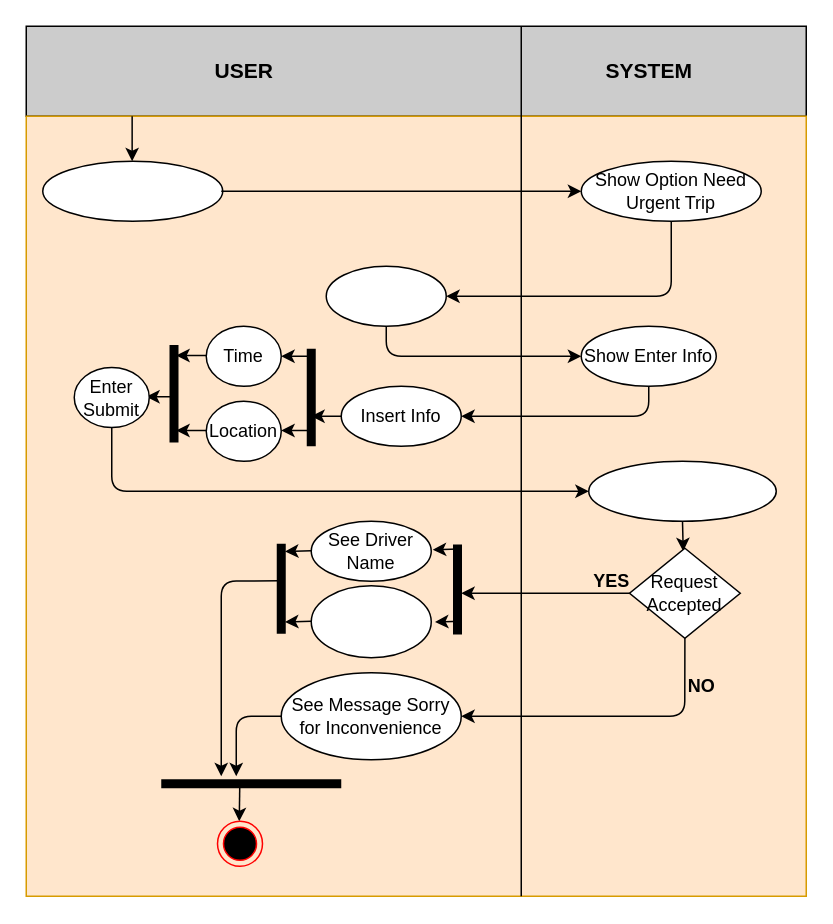
The diagram is 833 pixels wide and 924 high, and some of its shapes have lost their labels. Here are the shapes that lost their labels. From the top down, the centre of each, then its label:
At pixel 132 190: "Can Request for Urgent Trip".
At pixel 385 295: "Click On That".
At pixel 681 490: "Show Notification About Urgent Trip".
At pixel 370 621: "See Transport No".
